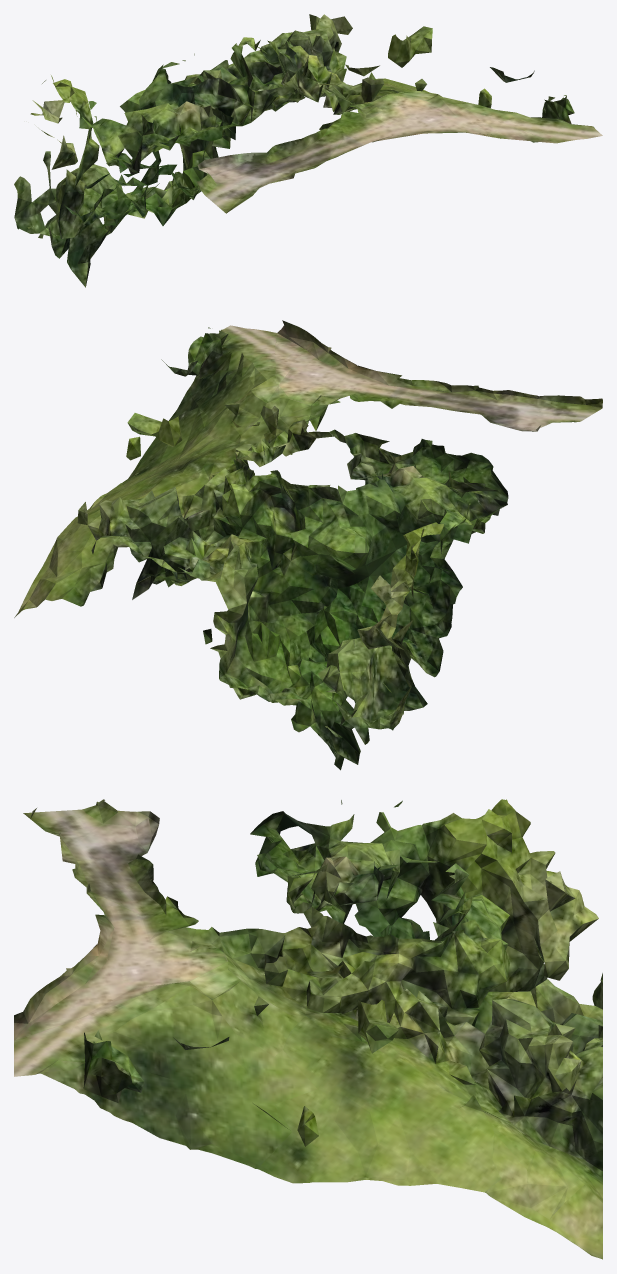
The picture shows the model from 3 angles, top to bottom: view 1: azimuth 30°, elevation 25°; view 2: azimuth 150°, elevation 25°; view 3: azimuth 270°, elevation 25°; orthographic projection. The views are drawn at different scales.
Size of the model in its own units: 52.22 by 31.71 by 52.22.
5 materials, 5 textured.
